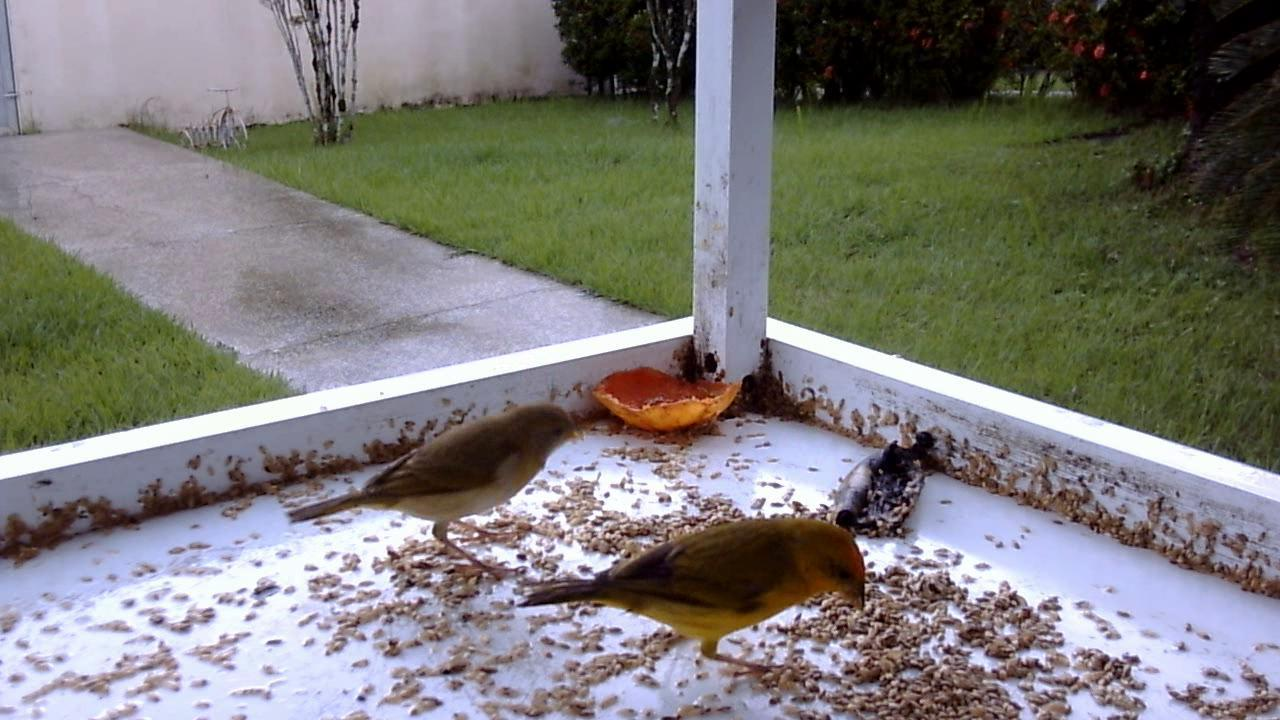canario_do_amazonas: (509, 507, 866, 675), (282, 397, 592, 578)
